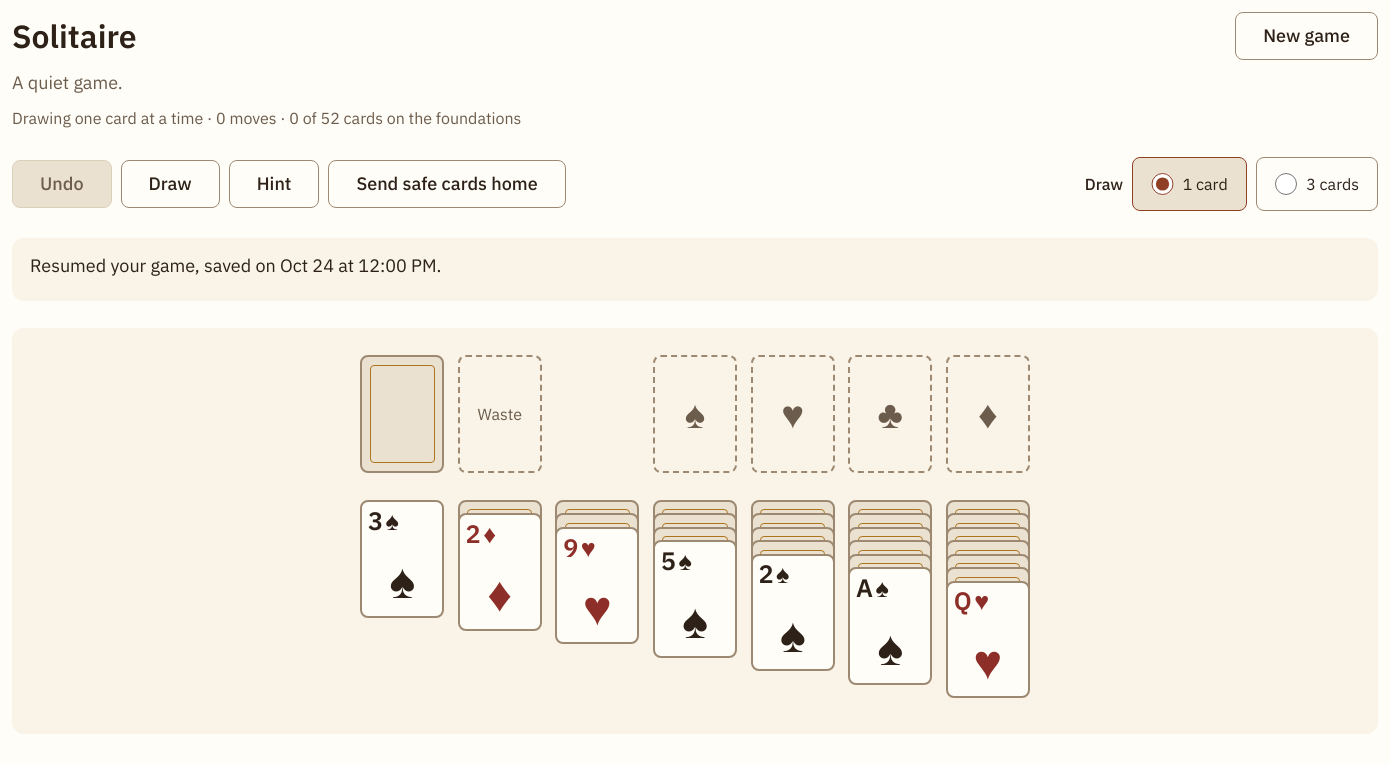
Test: Solitaire language changes › starts a new game with the preferred draw count and keeps its announcement when the language changes
Click the button "Draw": (170, 184) [120,160,220,208]
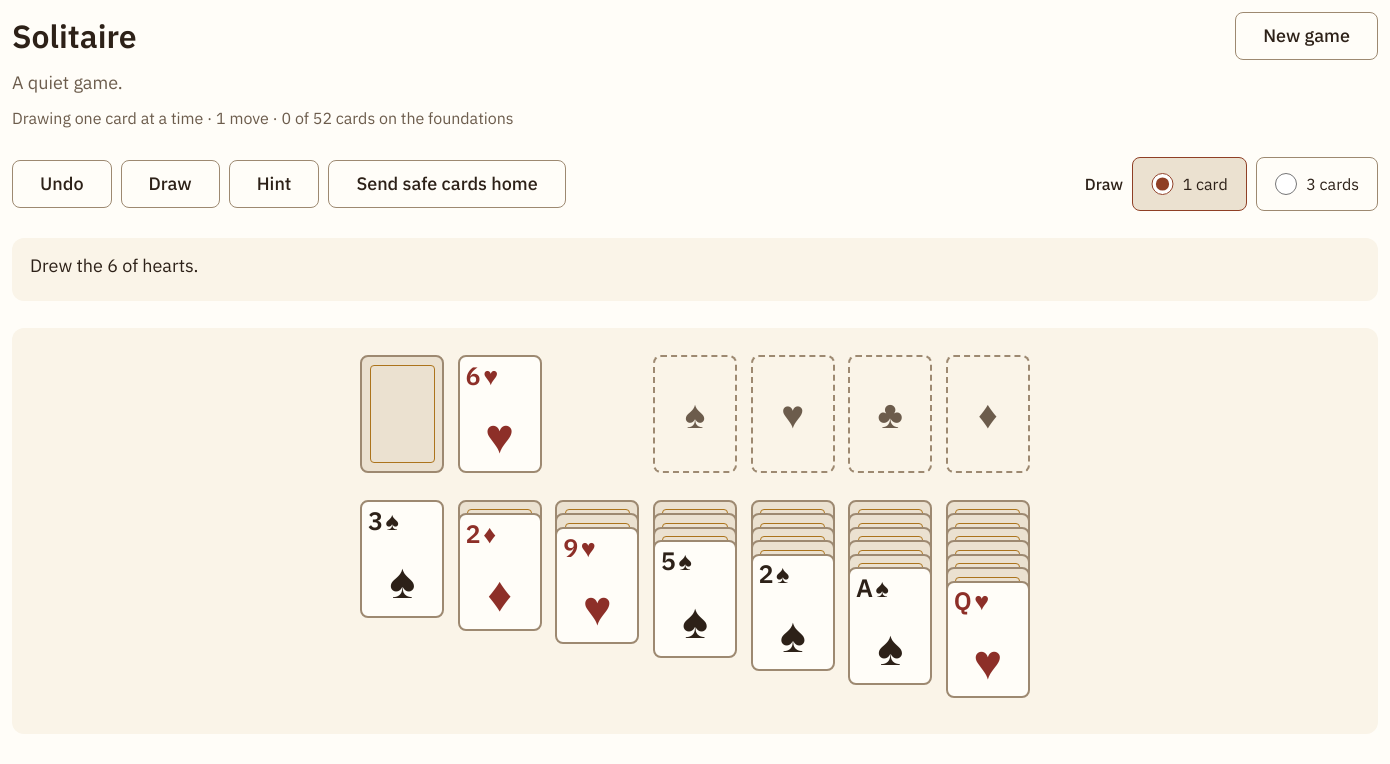
Click the radio button labelled "3 cards": (1286, 184) [1275,173,1297,195]
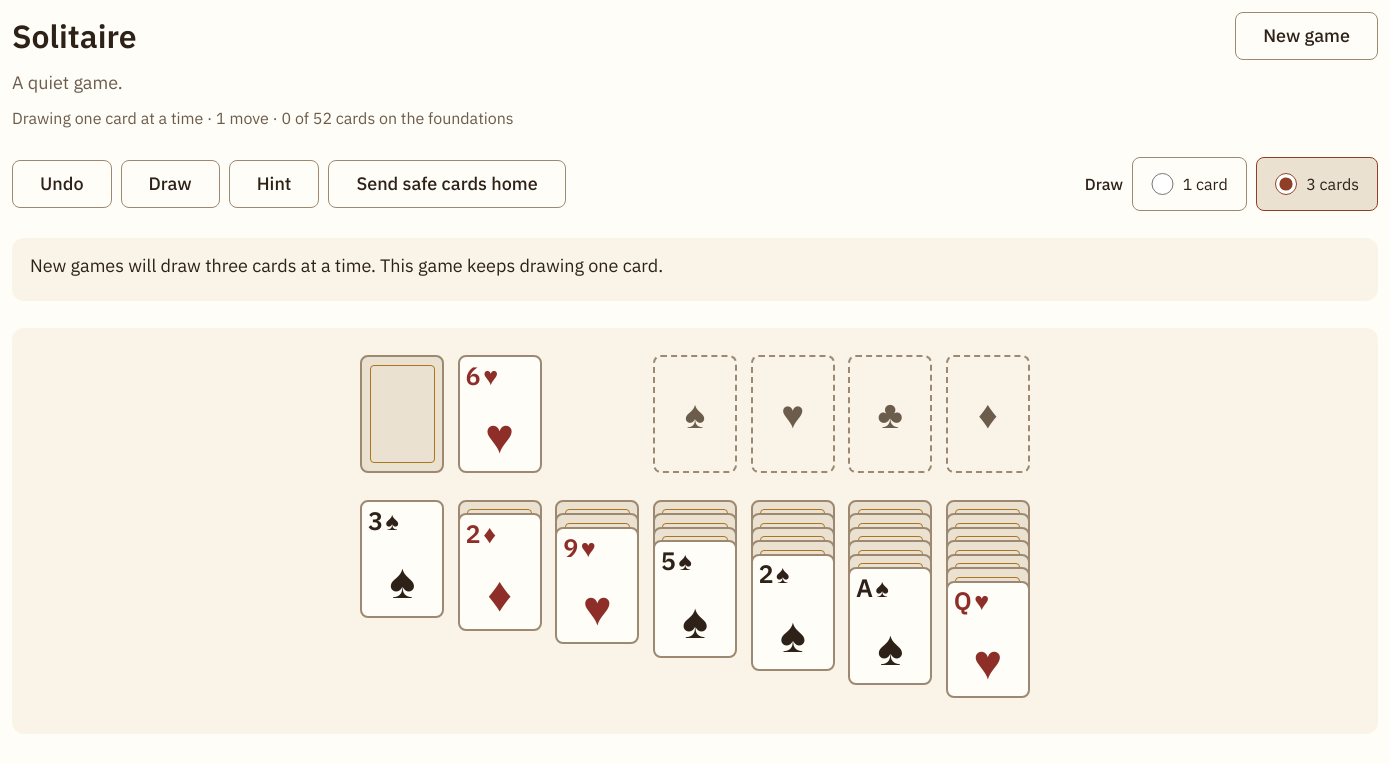
Click the button "New game": (1307, 36) [1235,12,1378,60]
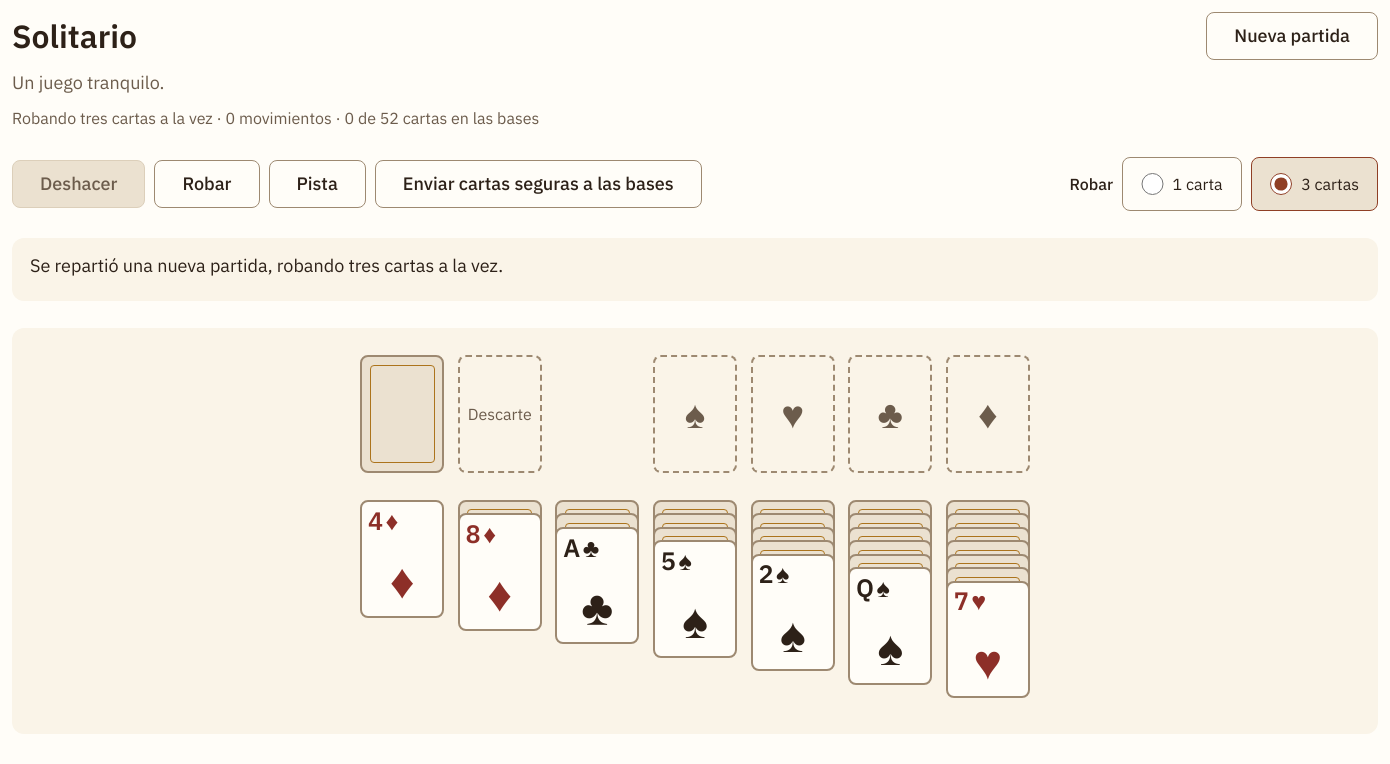
Click the button "Robar": (207, 184) [154,160,260,208]
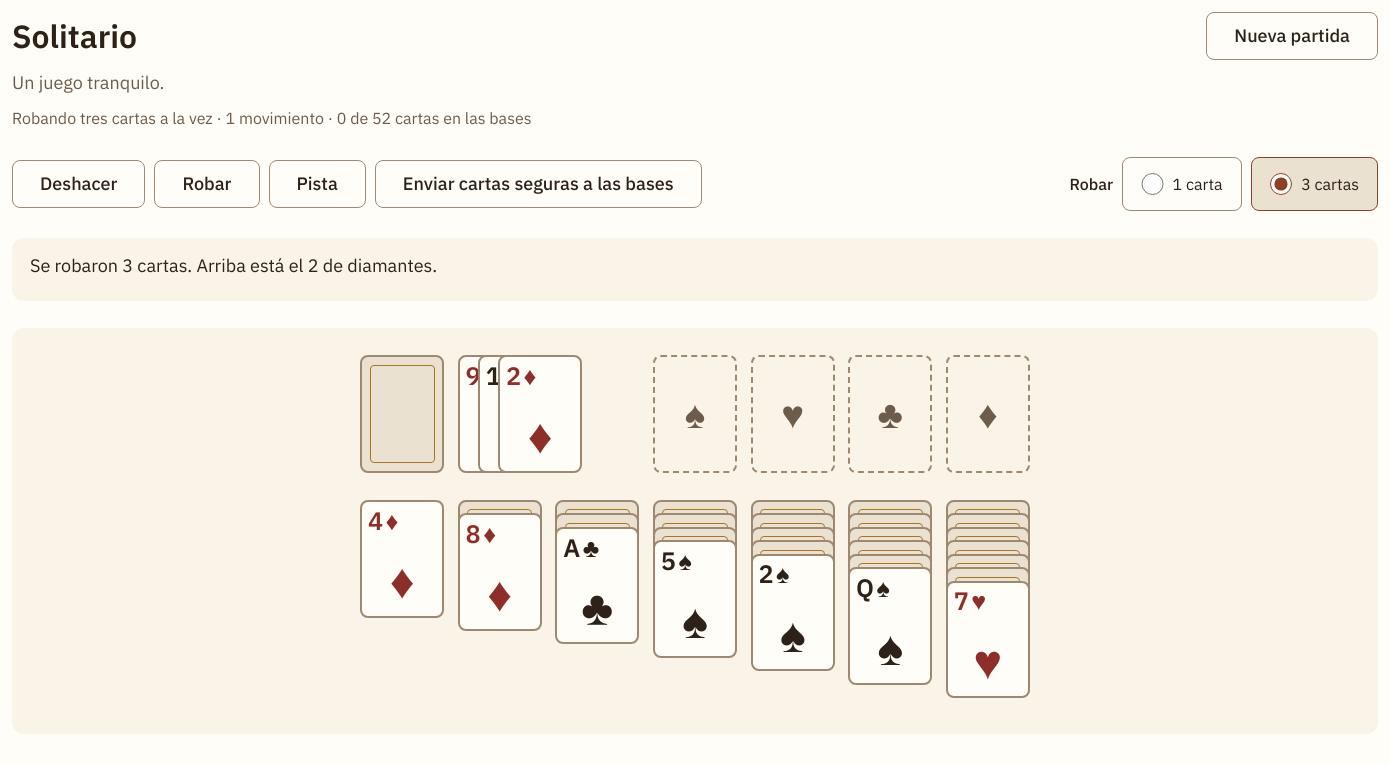
Expected: the button named "Mazo, 21 cartas. Pulse para robar." is shown, [360,355,444,473]
Expected: the text "1 movimiento" is shown, [226,108,324,128]
